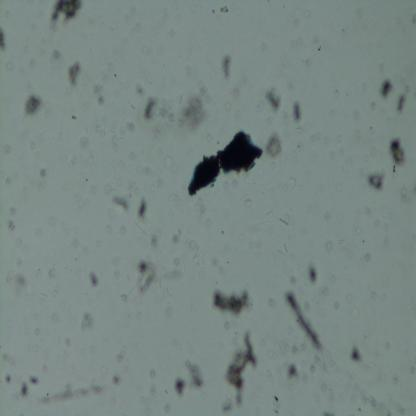Background material: (227, 322, 257, 405), (285, 289, 323, 352), (210, 284, 256, 317), (42, 384, 104, 404), (177, 95, 210, 132), (48, 0, 82, 31), (184, 357, 206, 393), (263, 82, 284, 113), (137, 259, 154, 297), (363, 394, 391, 416), (64, 59, 85, 88), (21, 93, 42, 118), (261, 134, 284, 156), (7, 269, 26, 294), (190, 238, 206, 267), (390, 137, 406, 165), (77, 312, 96, 334), (160, 97, 176, 122), (143, 98, 159, 123), (111, 194, 132, 213), (379, 76, 395, 100), (91, 77, 104, 106), (283, 360, 300, 382), (320, 348, 332, 376), (368, 172, 386, 190), (222, 51, 232, 82), (199, 80, 212, 102), (174, 375, 186, 398), (291, 100, 303, 123), (334, 132, 345, 157), (72, 192, 90, 206), (193, 196, 205, 217), (138, 197, 149, 219), (146, 231, 161, 247), (164, 268, 184, 280), (221, 395, 234, 413), (165, 154, 178, 172), (349, 344, 362, 362), (171, 226, 183, 245), (211, 257, 225, 273), (88, 271, 100, 289), (116, 343, 125, 365), (398, 91, 406, 115), (271, 394, 281, 413), (95, 121, 108, 135), (125, 7, 137, 22), (135, 221, 147, 236), (51, 48, 62, 64), (308, 264, 317, 283), (129, 23, 142, 36), (289, 14, 301, 28), (399, 188, 410, 203), (163, 304, 174, 319), (134, 80, 144, 96), (367, 284, 377, 300), (118, 292, 131, 304), (77, 134, 89, 147), (0, 25, 6, 51), (278, 215, 291, 227), (324, 239, 334, 254), (110, 374, 122, 386), (103, 184, 115, 196), (166, 190, 178, 202), (365, 100, 379, 110), (286, 176, 296, 190), (267, 294, 276, 309), (219, 3, 230, 15), (36, 179, 48, 190), (125, 120, 136, 132), (352, 224, 363, 236), (112, 135, 120, 151), (6, 218, 15, 232), (353, 7, 364, 18), (4, 61, 14, 73), (50, 311, 60, 323), (363, 249, 372, 262), (244, 194, 252, 208), (311, 131, 321, 142), (12, 237, 23, 247), (265, 205, 274, 217), (49, 267, 58, 279), (90, 186, 102, 195), (309, 362, 318, 374), (365, 204, 374, 216), (289, 275, 298, 287), (39, 165, 47, 178), (132, 311, 142, 321), (310, 354, 320, 364), (230, 87, 241, 96), (358, 78, 367, 89), (161, 403, 172, 412), (118, 224, 127, 235), (14, 256, 23, 267), (333, 298, 341, 310), (100, 366, 108, 378), (114, 267, 122, 279), (71, 238, 80, 248), (172, 256, 181, 266), (323, 410, 338, 416), (223, 100, 231, 111), (4, 175, 12, 186), (354, 127, 361, 139), (4, 142, 11, 154), (185, 62, 192, 74), (392, 373, 399, 385), (411, 12, 416, 28), (149, 385, 157, 395), (319, 382, 327, 392), (9, 206, 17, 216), (402, 84, 412, 92), (349, 393, 357, 403), (254, 239, 260, 252), (116, 173, 122, 186), (409, 365, 416, 376), (128, 100, 136, 109), (294, 126, 303, 134), (322, 286, 329, 296), (169, 28, 176, 38), (145, 168, 152, 178), (223, 320, 230, 330), (30, 58, 36, 69), (204, 219, 212, 227), (338, 238, 346, 246), (290, 345, 298, 353), (336, 374, 344, 382), (301, 342, 307, 352), (112, 68, 118, 78), (30, 140, 36, 150), (157, 178, 163, 188), (70, 114, 78, 121), (383, 342, 391, 349), (151, 183, 156, 194), (106, 224, 112, 233), (65, 338, 71, 347), (310, 38, 319, 44), (150, 369, 155, 379), (325, 210, 330, 220), (43, 364, 49, 372), (374, 218, 380, 226), (296, 142, 302, 150), (35, 327, 40, 336), (400, 405, 405, 414), (96, 239, 102, 246), (210, 8, 216, 15), (83, 248, 88, 256), (156, 168, 161, 176), (392, 165, 396, 173), (318, 44, 322, 51), (164, 388, 168, 395), (358, 406, 362, 412), (221, 230, 224, 235)
Fragment: (187, 127, 262, 197)
Glass filter fibre: (282, 242, 290, 253), (39, 292, 49, 298)
